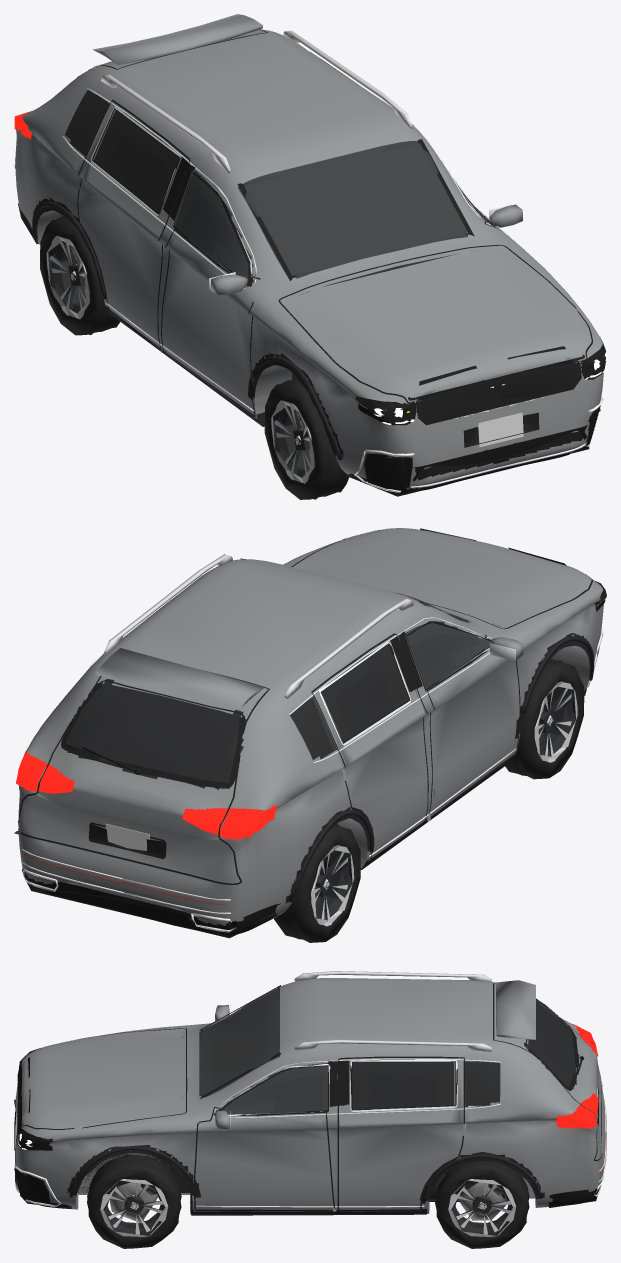
Rendered from compactSuv-lod1.glb.
The picture shows the model from 3 angles, top to bottom: view 1: azimuth 30°, elevation 25°; view 2: azimuth 150°, elevation 25°; view 3: azimuth 270°, elevation 25°; orthographic projection. The views are drawn at different scales.
Parts seen in each view (by area): view 1: Body, HoodSkin, Body_Lining, Body_Trim, Panel_FR, Panel_RR, Window_RR, Wheel_FR_Tyre, Window_FR, Wheel_RR_Tyre, Spoiler, Wheel_FR_Lip (+10 smaller); view 2: Body, TrunkSkin, HoodSkin, Panel_FR, Panel_RR, TrunkSkin_Trim, Body_Trim, Spoiler, Window_RR, Wheel_RR_Tyre, Wheel_FR_Tyre, Window_FR (+12 smaller); view 3: Body, HoodSkin, Panel_FL, Panel_RL, Body_Lining, Body_Trim, Window_RL, Wheel_FL_Tyre, TrunkSkin, Wheel_RL_Tyre, Window_FL, Panel_RL_Trim (+14 smaller).
Boxes of the visible parts, x1,y1,x2,y2 form: Body: (15, 29, 603, 490); HoodSkin: (281, 248, 591, 401); Body_Lining: (65, 93, 479, 294); Body_Trim: (14, 111, 606, 496); Panel_FR: (163, 232, 252, 413); Panel_RR: (79, 103, 188, 346); Window_RR: (94, 110, 178, 216); Wheel_FR_Tyre: (264, 379, 349, 499); Window_FR: (175, 174, 254, 286); Wheel_RR_Tyre: (40, 215, 119, 335); Spoiler: (92, 14, 262, 64); Wheel_FR_Lip: (271, 400, 314, 483); Body: (18, 535, 603, 934); TrunkSkin: (19, 677, 266, 882); HoodSkin: (292, 528, 591, 628); Panel_FR: (429, 649, 516, 815); Panel_RR: (315, 635, 426, 855); TrunkSkin_Trim: (18, 670, 269, 884); Body_Trim: (16, 528, 606, 938); Spoiler: (95, 648, 264, 709); Window_RR: (321, 644, 408, 742); Wheel_RR_Tyre: (273, 824, 360, 942); Wheel_FR_Tyre: (505, 659, 584, 779); Window_FR: (407, 622, 490, 687); Body: (15, 978, 605, 1214); HoodSkin: (21, 1029, 182, 1128); Panel_FL: (199, 1113, 332, 1209); Panel_RL: (340, 1058, 459, 1209); Body_Lining: (199, 991, 564, 1115); Body_Trim: (14, 985, 597, 1215); Window_RL: (352, 1062, 454, 1109); Wheel_FL_Tyre: (87, 1154, 181, 1248); TrunkSkin: (495, 984, 601, 1157); Wheel_RL_Tyre: (435, 1160, 529, 1248); Window_FL: (216, 1065, 327, 1116); Panel_RL_Trim: (337, 1056, 464, 1211).
Bounding box in the file's own units: 2.11 × 1.66 × 4.57.
